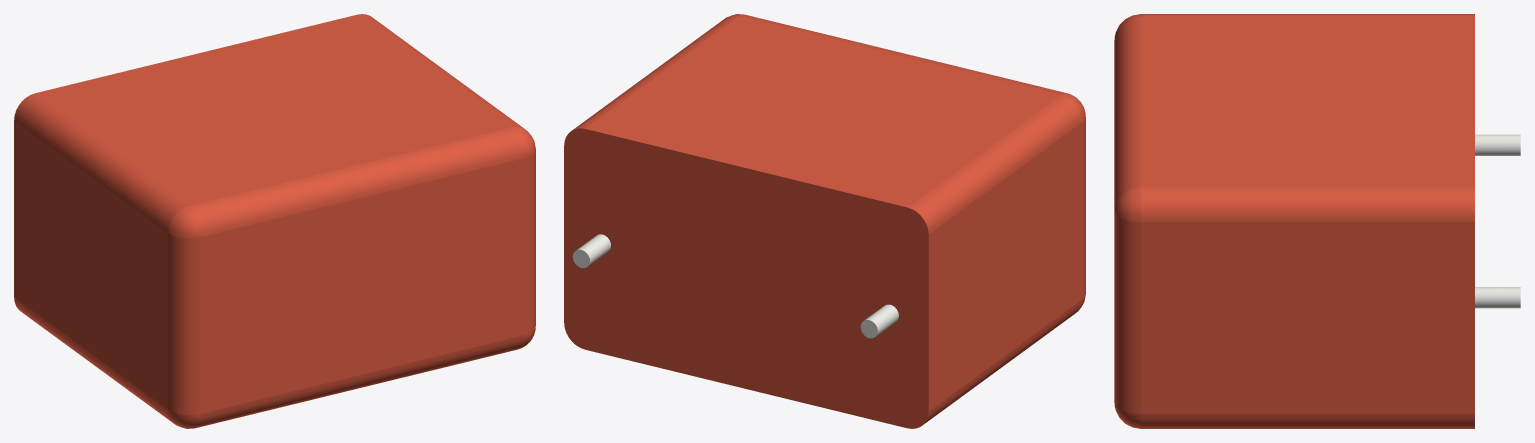
Rendered from C_Rect_L19.0mm_W11.0mm_P15.00mm_MKS4.glb.
The picture shows the model from 3 angles, left to right: view 1: azimuth 30°, elevation 25°; view 2: azimuth 150°, elevation 25°; view 3: azimuth 270°, elevation 25°; orthographic projection. The views are drawn at different scales.
Visible parts, largest first — view 1: Shape_IndexedFaceSet.008, Shape_IndexedFaceSet.009, Shape_IndexedFaceSet, Shape_IndexedFaceSet.016, Shape_IndexedFaceSet.004, Shape_IndexedFaceSet.002, Shape_IndexedFaceSet.015, Shape_IndexedFaceSet.017, Shape_IndexedFaceSet.001, Shape_IndexedFaceSet.011, Shape_IndexedFaceSet.007; view 2: Shape_IndexedFaceSet.003, Shape_IndexedFaceSet.009, Shape_IndexedFaceSet, Shape_IndexedFaceSet.004, Shape_IndexedFaceSet.001, Shape_IndexedFaceSet.011, Shape_IndexedFaceSet.016, Shape_IndexedFaceSet.002, Shape_IndexedFaceSet.013, Shape_IndexedFaceSet.014; view 3: Shape_IndexedFaceSet.012, Shape_IndexedFaceSet.009, Shape_IndexedFaceSet.011, Shape_IndexedFaceSet.010, Shape_IndexedFaceSet.017, Shape_IndexedFaceSet.016, Shape_IndexedFaceSet.013, Shape_IndexedFaceSet.014, Shape_IndexedFaceSet.004, Shape_IndexedFaceSet.019.
Part boxes in pixels (x1=…): Shape_IndexedFaceSet.008: x1=201, y1=158, x2=523, y2=413; Shape_IndexedFaceSet.009: x1=35, y1=14, x2=510, y2=205; Shape_IndexedFaceSet: x1=14, y1=120, x2=167, y2=409; Shape_IndexedFaceSet.016: x1=189, y1=127, x2=523, y2=236; Shape_IndexedFaceSet.004: x1=14, y1=93, x2=188, y2=232; Shape_IndexedFaceSet.002: x1=168, y1=233, x2=201, y2=414; Shape_IndexedFaceSet.015: x1=196, y1=335, x2=523, y2=427; Shape_IndexedFaceSet.017: x1=523, y1=149, x2=535, y2=334; Shape_IndexedFaceSet.001: x1=14, y1=297, x2=172, y2=422; Shape_IndexedFaceSet.011: x1=358, y1=14, x2=523, y2=128; Shape_IndexedFaceSet.007: x1=168, y1=206, x2=201, y2=238; Shape_IndexedFaceSet.003: x1=564, y1=128, x2=928, y2=428; Shape_IndexedFaceSet.009: x1=585, y1=16, x2=1061, y2=207; Shape_IndexedFaceSet: x1=928, y1=122, x2=1082, y2=410; Shape_IndexedFaceSet.004: x1=908, y1=95, x2=1082, y2=234; Shape_IndexedFaceSet.001: x1=922, y1=299, x2=1082, y2=425; Shape_IndexedFaceSet.011: x1=573, y1=15, x2=738, y2=129; Shape_IndexedFaceSet.016: x1=739, y1=14, x2=1066, y2=94; Shape_IndexedFaceSet.002: x1=1082, y1=118, x2=1085, y2=298; Shape_IndexedFaceSet.013: x1=865, y1=304, x2=898, y2=335; Shape_IndexedFaceSet.014: x1=577, y1=234, x2=610, y2=265; Shape_IndexedFaceSet.012: x1=1141, y1=222, x2=1474, y2=413; Shape_IndexedFaceSet.009: x1=1141, y1=16, x2=1474, y2=186; Shape_IndexedFaceSet.011: x1=1141, y1=187, x2=1474, y2=221; Shape_IndexedFaceSet.010: x1=1141, y1=413, x2=1474, y2=428; Shape_IndexedFaceSet.017: x1=1114, y1=211, x2=1140, y2=413; Shape_IndexedFaceSet.016: x1=1114, y1=16, x2=1140, y2=210; Shape_IndexedFaceSet.013: x1=1475, y1=134, x2=1520, y2=155; Shape_IndexedFaceSet.014: x1=1475, y1=287, x2=1520, y2=308; Shape_IndexedFaceSet.004: x1=1141, y1=14, x2=1474, y2=16; Shape_IndexedFaceSet.019: x1=1114, y1=187, x2=1140, y2=221.
Bounding box in the file's own units: 7.48 × 4.33 × 6.65.
